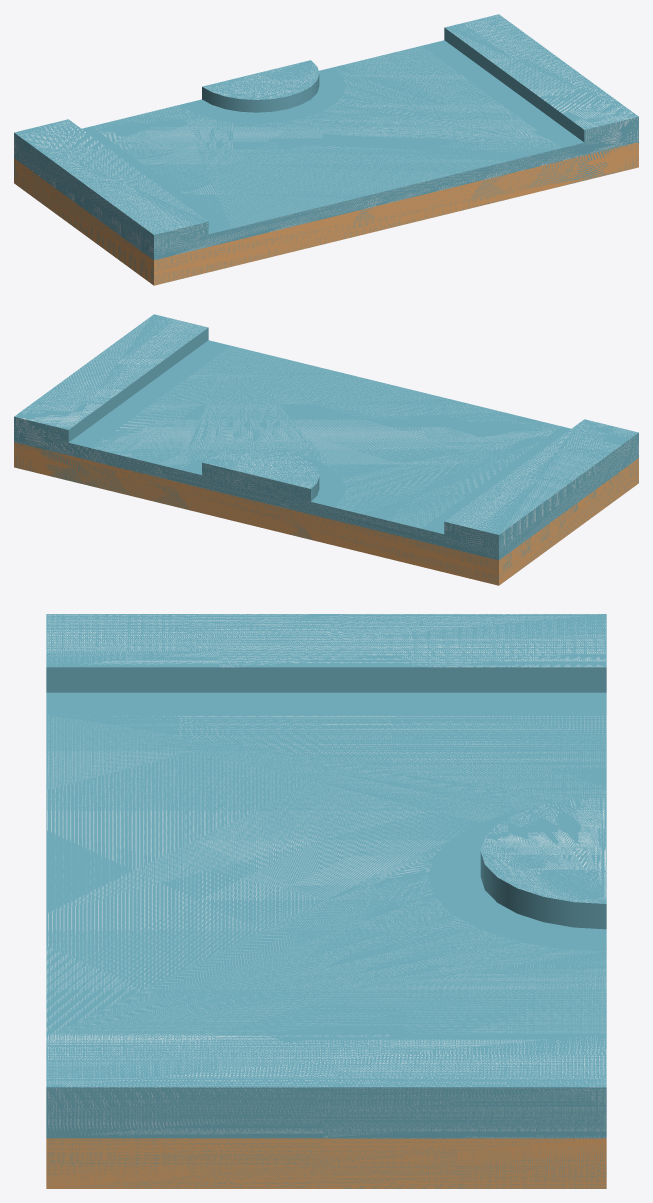
File: snow_tile_wideSplit.dae
3 views of the same model, one above another, from view 1: azimuth 30°, elevation 25°; view 2: azimuth 150°, elevation 25°; view 3: azimuth 270°, elevation 25° (orthographic). The views are drawn at different scales.
Parts seen in each view (by area): view 1: snow_tile_wideSplit; view 2: snow_tile_wideSplit; view 3: snow_tile_wideSplit.
Part boxes in pixels (left/top/right/bottom): snow_tile_wideSplit: left=14, top=14, right=638, bottom=285; snow_tile_wideSplit: left=14, top=314, right=638, bottom=585; snow_tile_wideSplit: left=46, top=614, right=606, bottom=1188.
Size of the model in its own units: 2 by 0.2 by 1.
